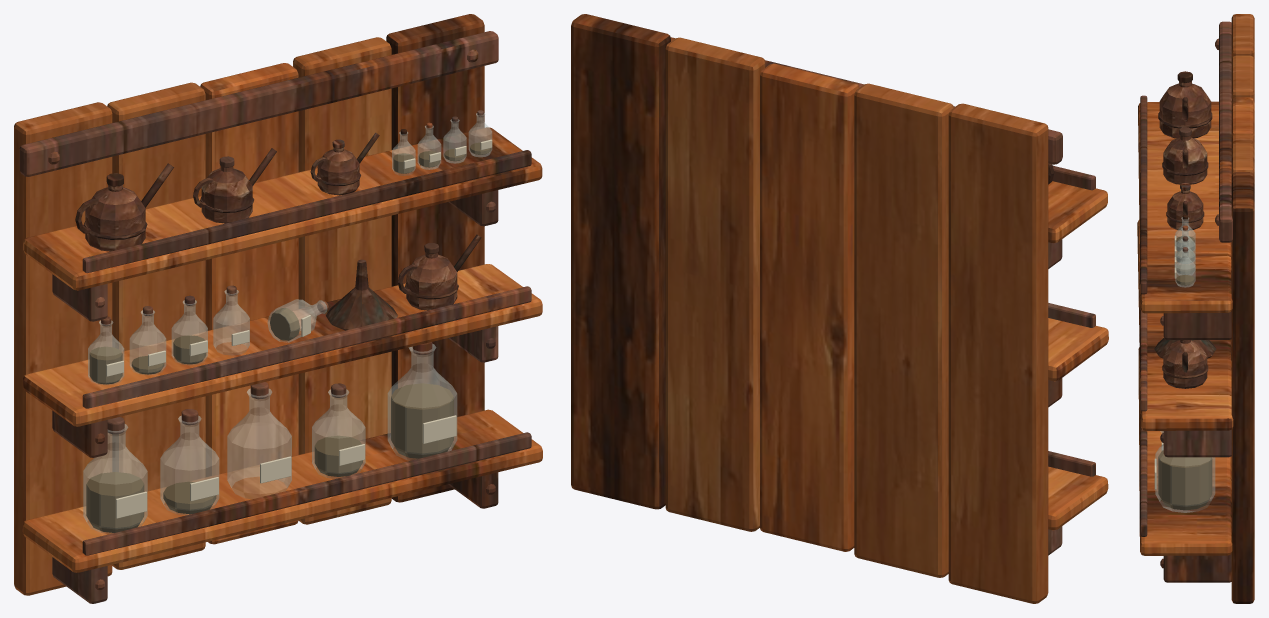
File: lw_oil_flask_shelf.glb
3 views of the same model, side by side, from view 1: azimuth 30°, elevation 25°; view 2: azimuth 150°, elevation 25°; view 3: azimuth 270°, elevation 25° (orthographic). The views are drawn at different scales.
Parts seen in each view (by area): view 1: model; view 2: model; view 3: model.
Boxes of the visible parts, x1,y1,x2,y2 form: model: (14, 14, 542, 603); model: (571, 14, 1108, 603); model: (1137, 14, 1254, 603).
Bounding box in the file's own units: 1.02 × 0.9611 × 0.254.
Materials: 23 (7 with a texture image).
